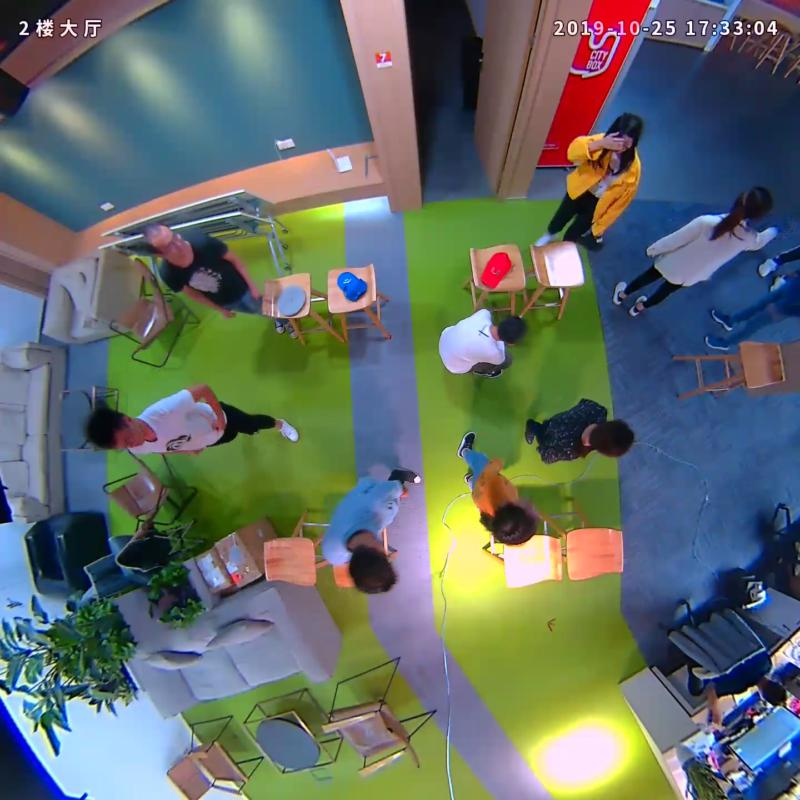head: (79, 399, 149, 459), (480, 499, 546, 553), (719, 178, 784, 232), (341, 544, 403, 596), (588, 109, 646, 163), (136, 218, 193, 267), (585, 416, 645, 461), (488, 312, 532, 353)
